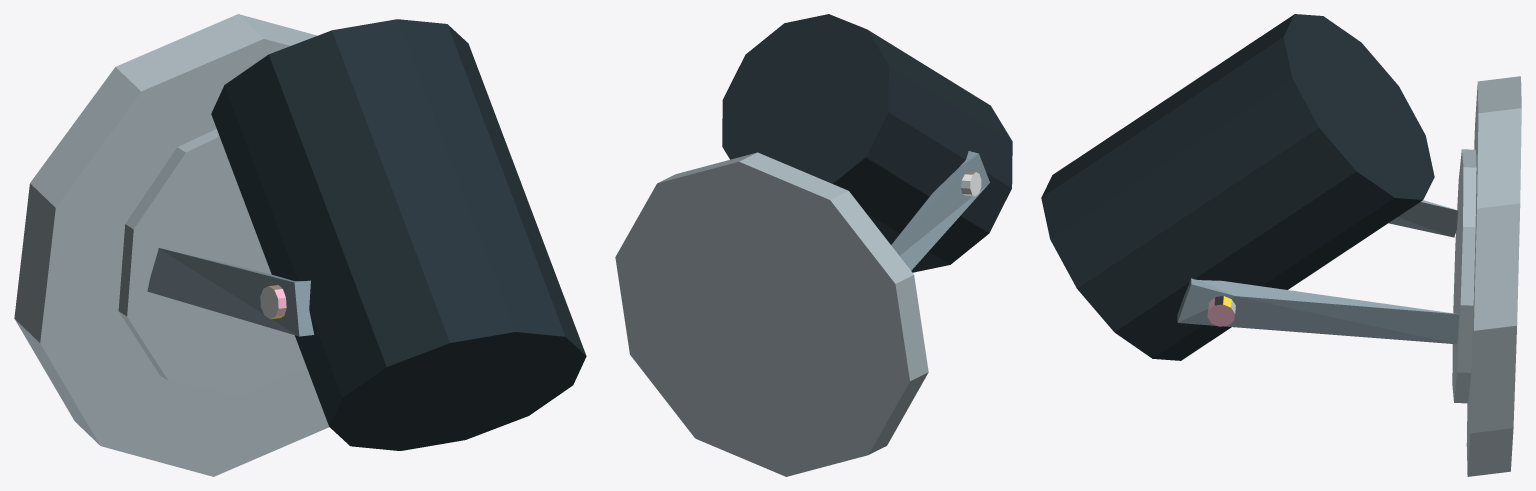
Rendered from bar_lamb.fbx.
3 views of the same model, side by side, from view 1: azimuth 30°, elevation 25°; view 2: azimuth 150°, elevation 25°; view 3: azimuth 270°, elevation 25° (orthographic). The views are drawn at different scales.
Parts seen in each view (by area): view 1: polySurface78, polySurface82, polySurface84, polySurface80, polySurface83; view 2: polySurface82, polySurface78, polySurface80, polySurface83; view 3: polySurface78, polySurface82, polySurface81, polySurface84, polySurface80, polySurface79.
Part boxes in pixels (x1,y1,x2,y2): polySurface78: (211, 19, 586, 450); polySurface82: (14, 14, 329, 476); polySurface84: (118, 129, 306, 397); polySurface80: (147, 248, 314, 336); polySurface83: (260, 285, 286, 319); polySurface82: (615, 152, 928, 476); polySurface78: (722, 14, 1012, 272); polySurface80: (891, 151, 989, 270); polySurface83: (960, 171, 981, 196); polySurface78: (1041, 14, 1434, 360); polySurface82: (1466, 76, 1521, 476); polySurface81: (1177, 278, 1459, 344); polySurface84: (1452, 149, 1476, 403); polySurface80: (1388, 200, 1457, 237); polySurface79: (1207, 296, 1235, 326).
Size of the model in its own units: 7.14 by 8.86 by 8.78.
